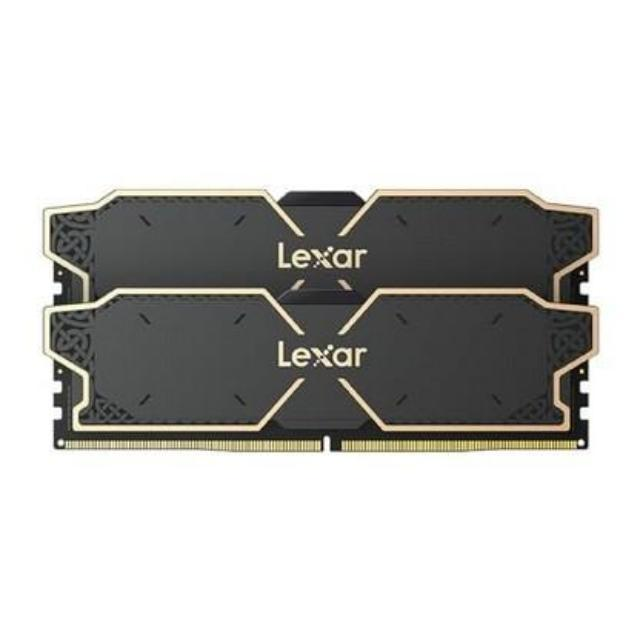RAM: (31, 178, 604, 470)
